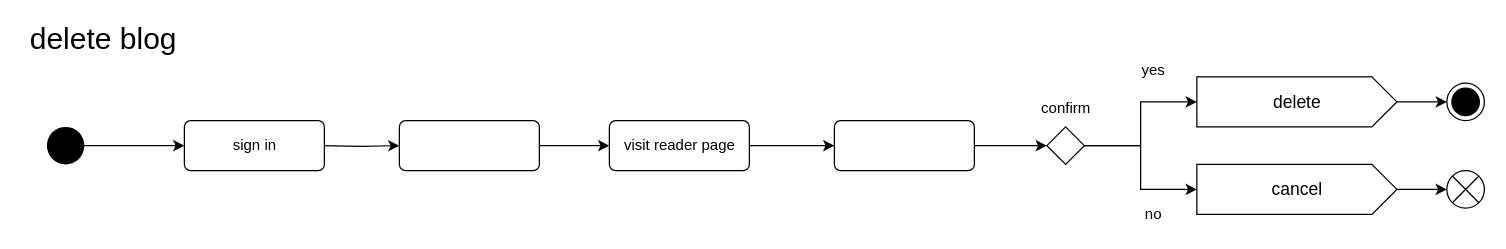
This 1506x249 diagram has some shape labels left out. Each missing label, with the box of its shape:
press delete button: (833, 119, 974, 171)
visit home page: (398, 119, 539, 171)
